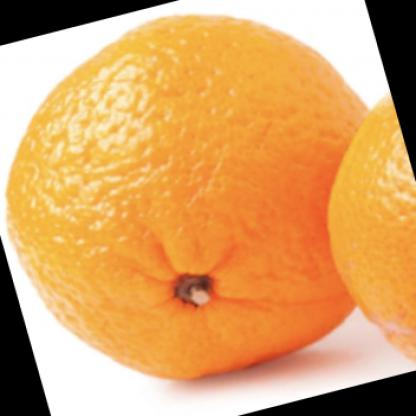orange: (2, 12, 362, 379)
